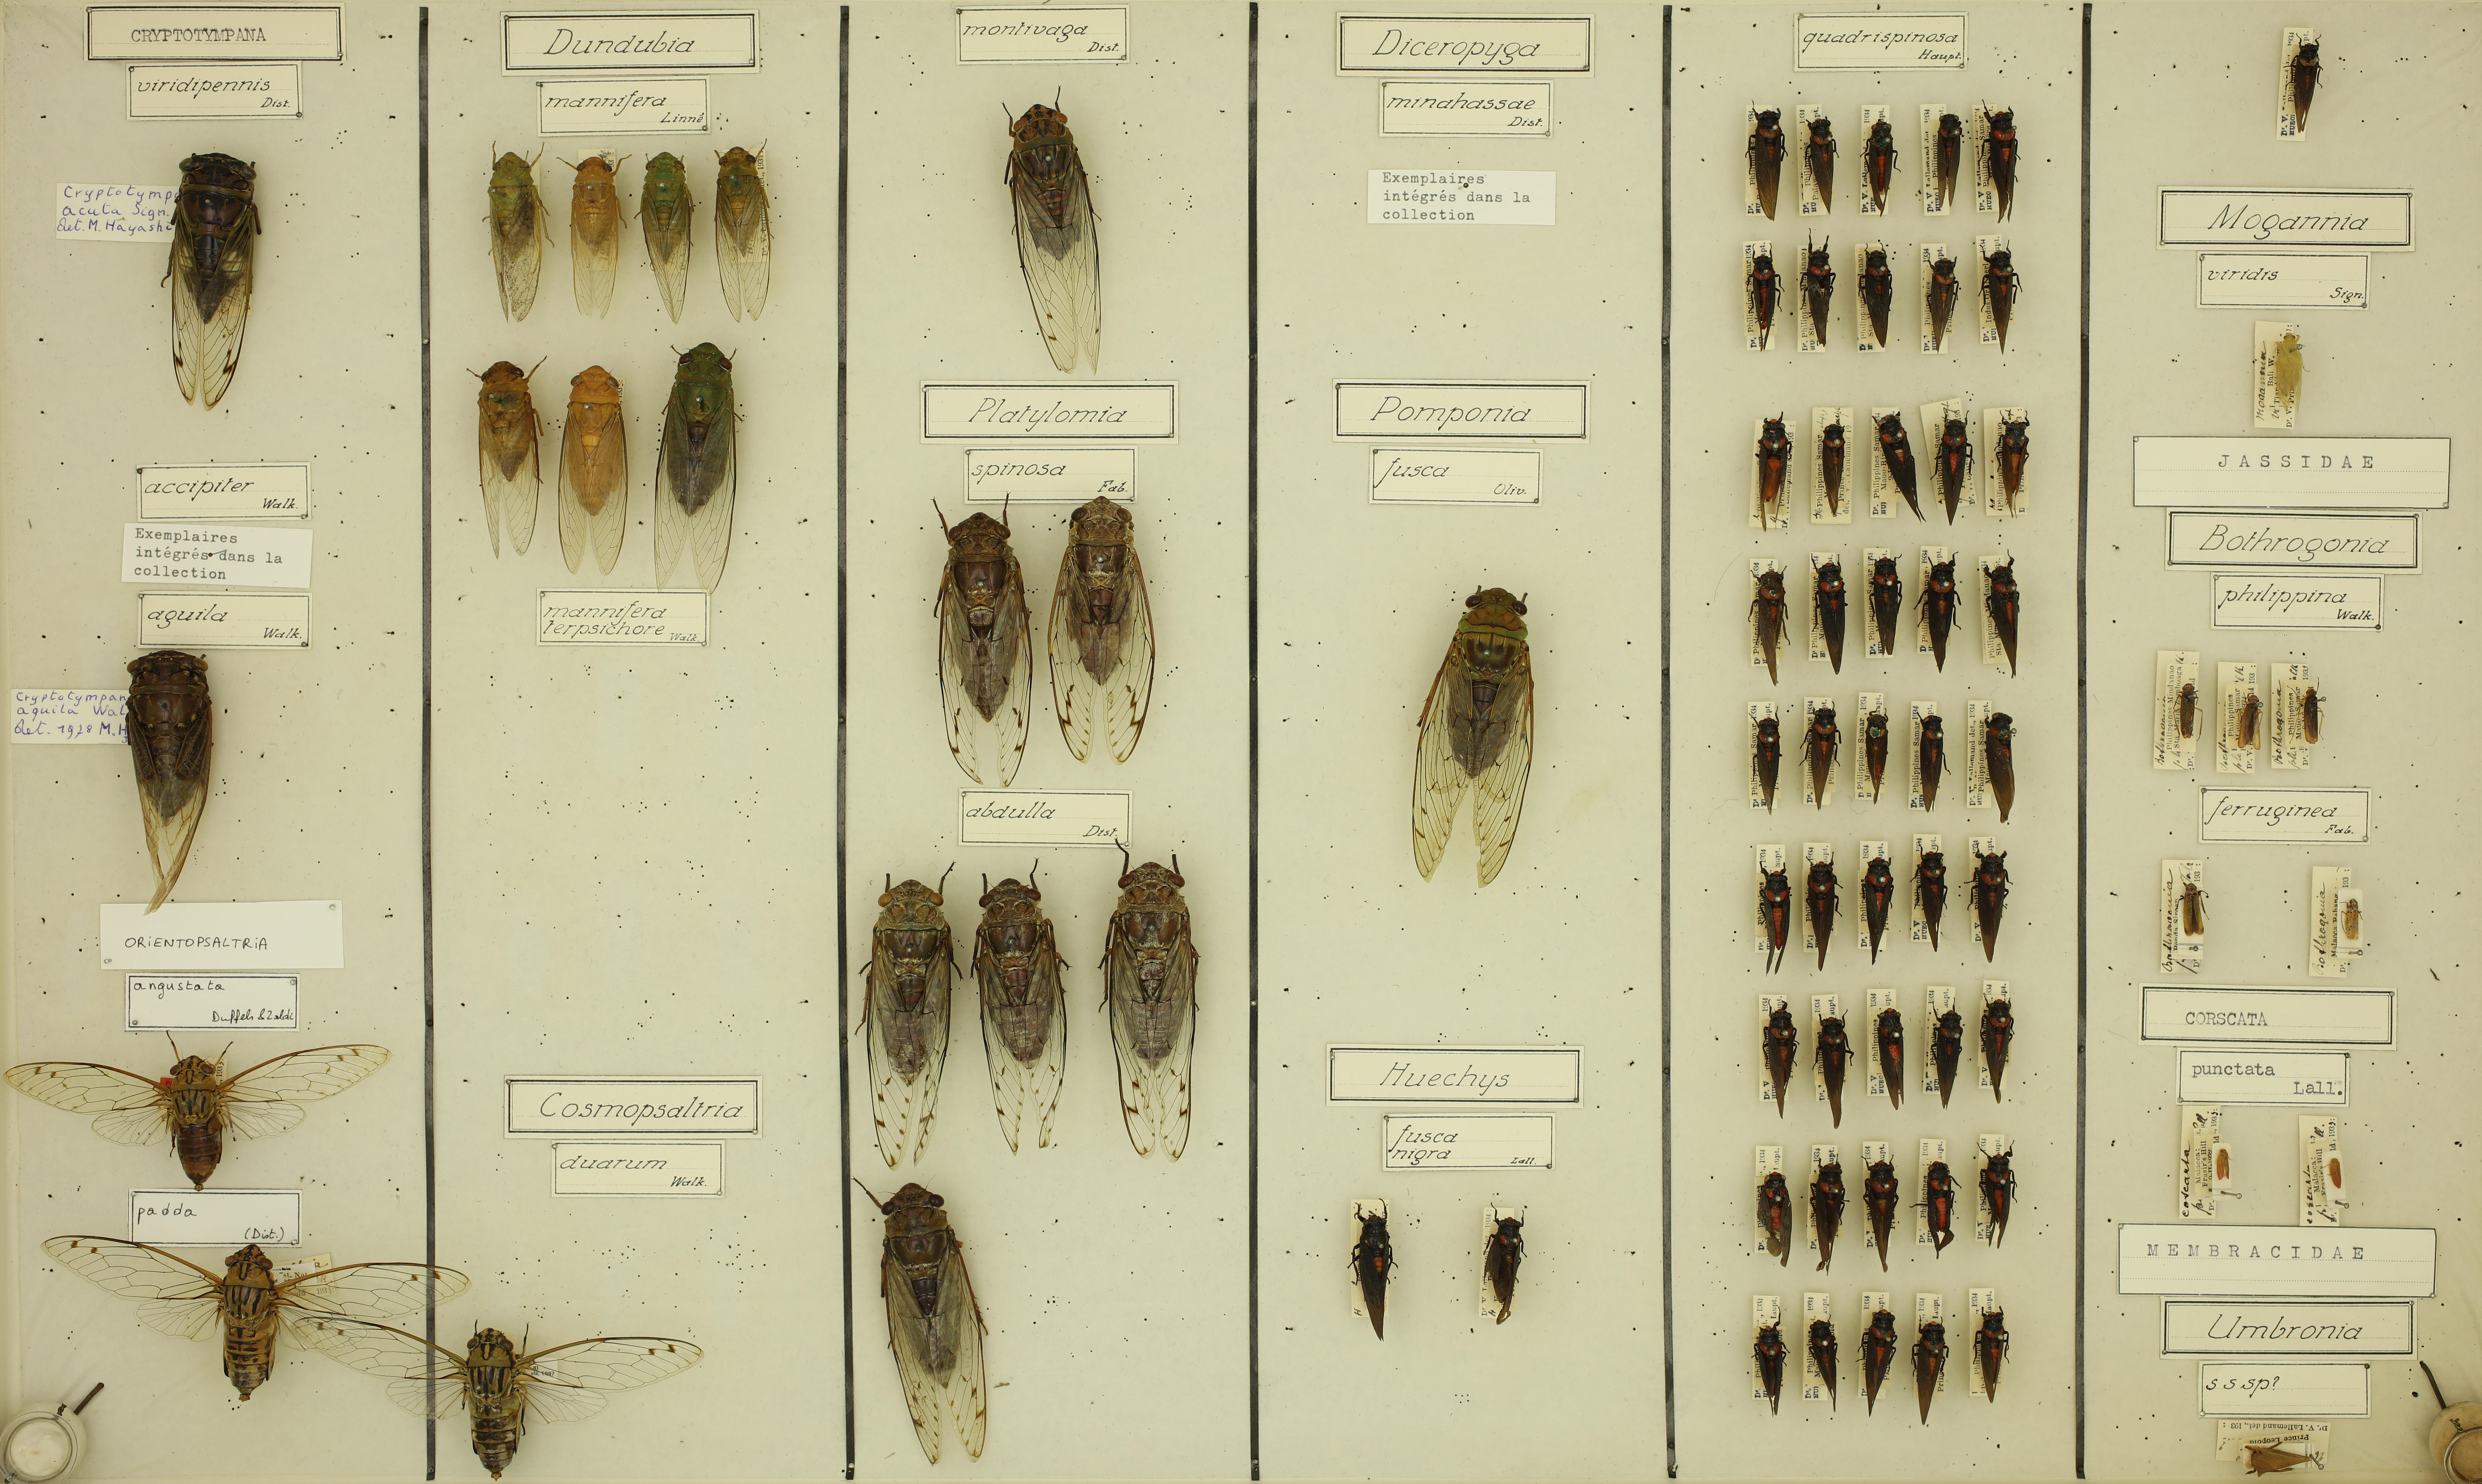insect: (32, 1215, 467, 1416), (302, 1308, 704, 1484), (4, 1026, 397, 1190), (1071, 833, 1227, 1177), (848, 1160, 1003, 1464), (1396, 569, 1545, 883), (988, 76, 1139, 375), (910, 475, 1041, 817), (135, 133, 298, 408), (1034, 476, 1167, 777), (847, 840, 965, 1173), (98, 634, 228, 931), (638, 325, 767, 609), (976, 835, 1081, 1177), (533, 344, 653, 594), (442, 345, 550, 568), (689, 121, 789, 325), (463, 145, 558, 355), (551, 141, 636, 324), (631, 145, 706, 330), (1338, 1195, 1409, 1354), (1466, 1192, 1534, 1331), (1972, 543, 2032, 682), (1965, 1137, 2027, 1263), (1735, 95, 1791, 223), (1871, 402, 1929, 525), (1803, 1138, 1853, 1281), (1962, 838, 2015, 966), (1906, 544, 1959, 666), (1743, 1160, 1806, 1261), (1806, 1007, 1858, 1130), (1922, 400, 1972, 526), (1901, 1313, 1954, 1429), (1972, 229, 2025, 345), (1796, 848, 1846, 969), (1741, 553, 1790, 677), (1969, 991, 2020, 1105), (1755, 992, 1798, 1127), (1919, 105, 1971, 214), (1849, 1304, 1902, 1411), (1856, 106, 1908, 214), (1748, 405, 1791, 533), (1921, 996, 1969, 1110), (1912, 241, 1962, 349), (1861, 1147, 1906, 1266), (1851, 847, 1899, 958), (1808, 546, 1849, 672), (1977, 88, 2019, 214), (1798, 223, 1841, 342), (1992, 407, 2040, 513), (1962, 1303, 2012, 1402), (1743, 1311, 1791, 1414), (1799, 108, 1846, 214), (1795, 1311, 1846, 1407), (1849, 236, 1896, 340), (1869, 1006, 1916, 1110), (1919, 1153, 1960, 1270), (1753, 855, 1793, 974), (1853, 702, 1902, 797), (2264, 317, 2311, 418), (1810, 412, 1853, 519), (1909, 699, 1951, 810), (1738, 244, 1783, 347), (1980, 707, 2019, 823), (1798, 702, 1846, 792), (1743, 707, 1781, 818), (1912, 836, 1949, 948), (2288, 33, 2327, 130), (1866, 553, 1906, 649), (2173, 875, 2216, 941), (2242, 1435, 2325, 1468), (2291, 675, 2327, 749), (2224, 686, 2266, 745), (2171, 675, 2204, 745), (2339, 898, 2365, 946), (2213, 1142, 2238, 1180), (2326, 1153, 2347, 1189)
